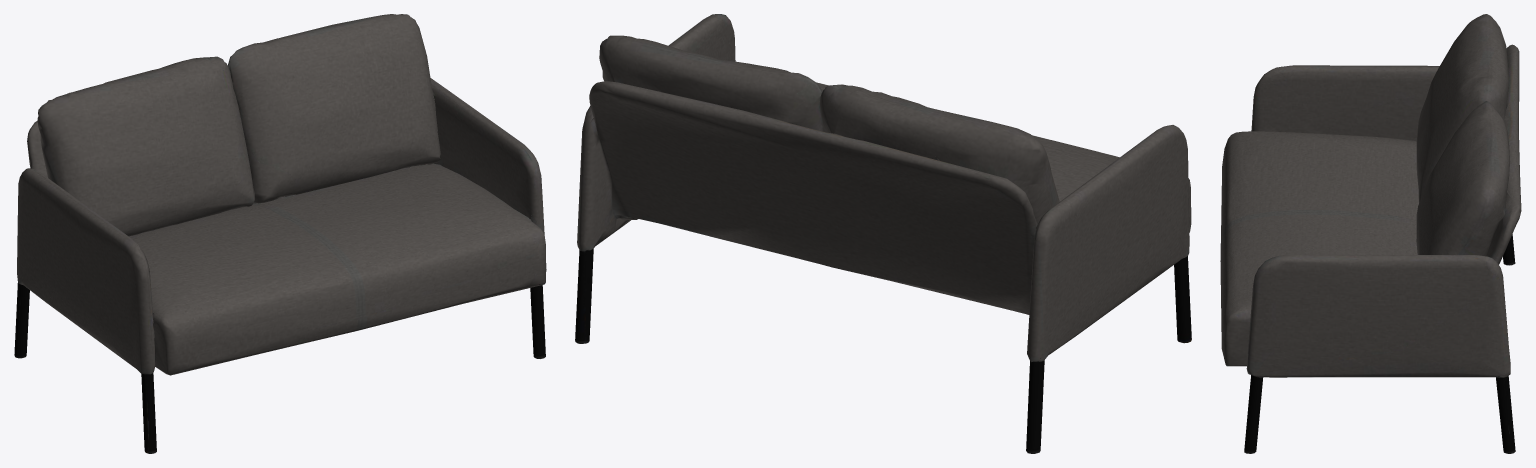
The model's file is glostad_sofa_2_osobowa_50489012.glb.
The picture shows the model from 3 angles, left to right: view 1: azimuth 30°, elevation 25°; view 2: azimuth 150°, elevation 25°; view 3: azimuth 270°, elevation 25°; orthographic projection. The views are drawn at different scales.
Visible parts, largest first — view 1: glostad_sofa_2_osobowa_50489012; view 2: glostad_sofa_2_osobowa_50489012; view 3: glostad_sofa_2_osobowa_50489012.
Part boxes in pixels (left/top/right/bottom): glostad_sofa_2_osobowa_50489012: left=14, top=14, right=546, bottom=453; glostad_sofa_2_osobowa_50489012: left=575, top=14, right=1191, bottom=453; glostad_sofa_2_osobowa_50489012: left=1220, top=14, right=1521, bottom=453.
Bounding box in the file's own units: 1.23 × 0.7659 × 0.7943.
1 material, 1 textured.
